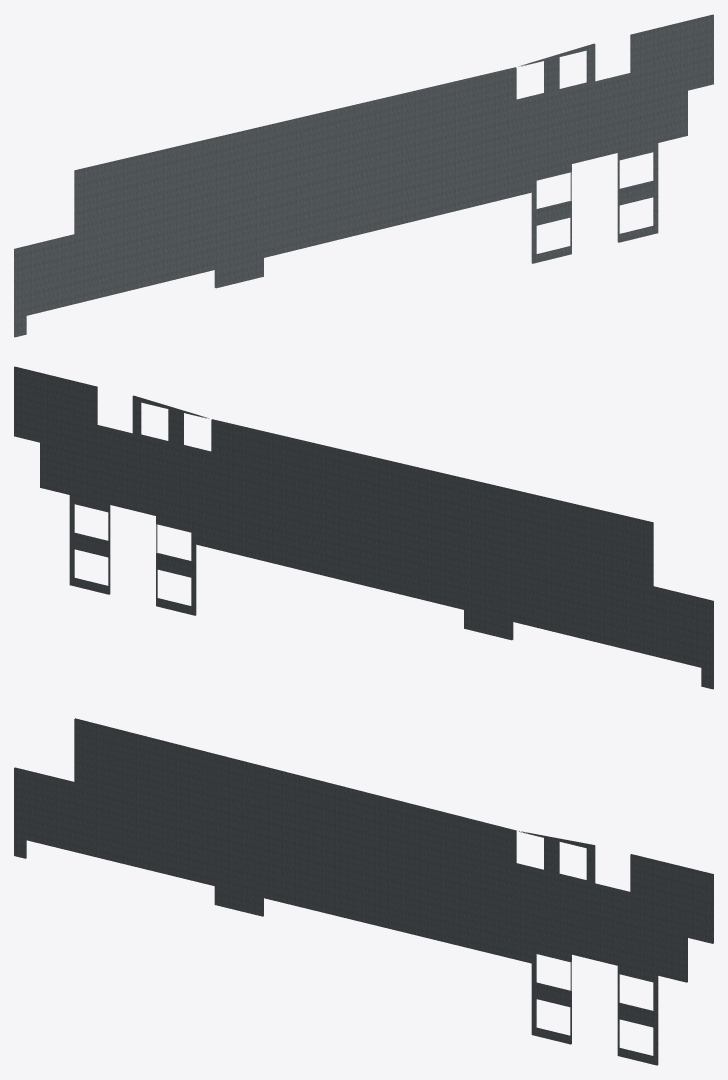
The model's file is floor_1.obj.
3 views of the same model, one above another, from view 1: azimuth 30°, elevation 25°; view 2: azimuth 150°, elevation 25°; view 3: azimuth 330°, elevation 25° (orthographic).
Parts seen in each view (by area): view 1: floor_1; view 2: floor_1; view 3: floor_1.
Boxes of the visible parts, left/top/right/bottom form: floor_1: left=14, top=14, right=713, bottom=337; floor_1: left=14, top=366, right=713, bottom=689; floor_1: left=14, top=718, right=713, bottom=1065.
Bounding box in the file's own units: 52.75 × 14.75 × 0.1.
Materials: 1 (1 with a texture image).
